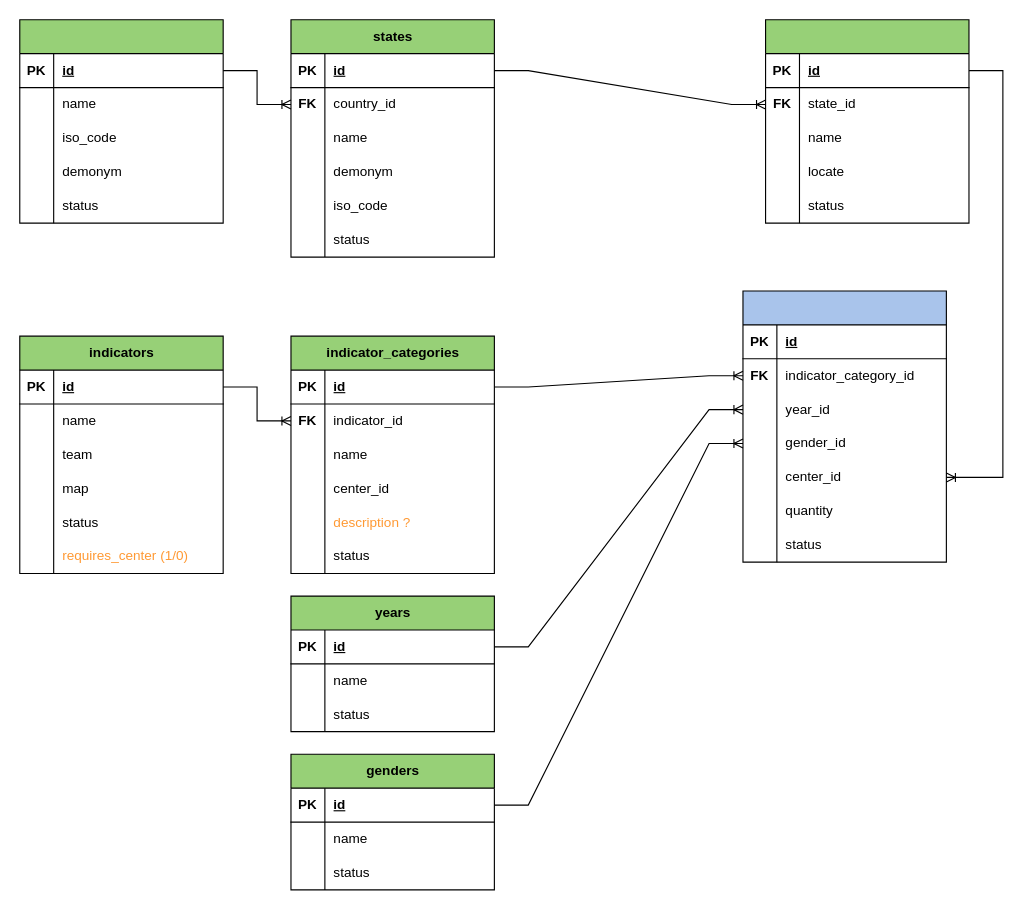
Some shapes in this 1032 by 910 pixel diagram are drawn without their labels. The shapes that lost their labels are listed below. From the top down, each one's box as (x1, y1, x2, y2) in pixels, then its label:
(19, 19, 223, 223): countries
(764, 19, 969, 223): centers
(742, 290, 946, 562): indicator_category_details
